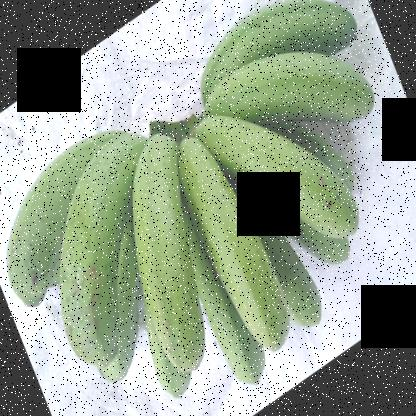unripe: (165, 148, 293, 364), (196, 112, 374, 244), (51, 124, 136, 365), (127, 119, 204, 380), (5, 102, 70, 340), (204, 55, 391, 134), (194, 0, 363, 86), (196, 254, 270, 391)
